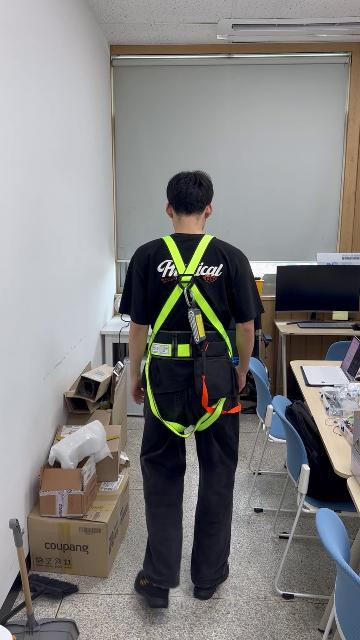helmet_not_worn: (164, 168, 218, 228)
shoe_worn: (134, 569, 169, 609), (193, 563, 229, 601)
vest_worn: (141, 235, 239, 431)
